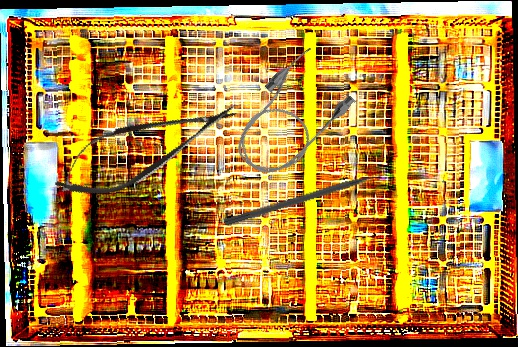Cannula: (218, 42, 362, 190)
Micro Scissor: (44, 82, 248, 213)
Pusher: (223, 167, 394, 229)
